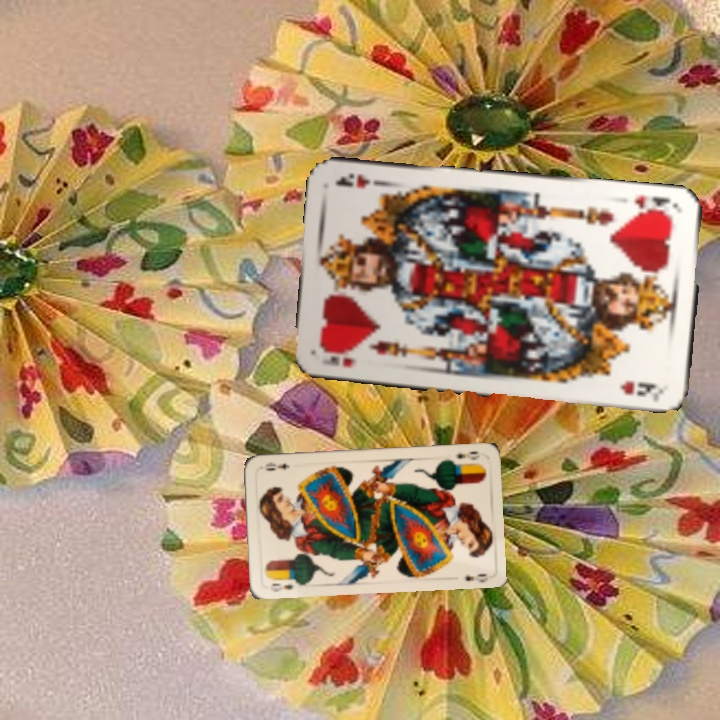EO: (266, 579, 295, 594), (453, 447, 482, 462)
HK: (631, 192, 680, 219), (318, 352, 357, 371)
